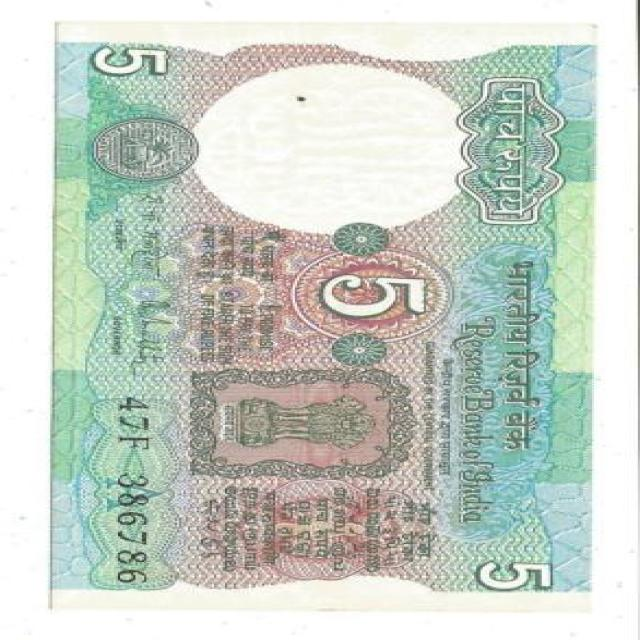5IndianRupees: (57, 21, 591, 617)
